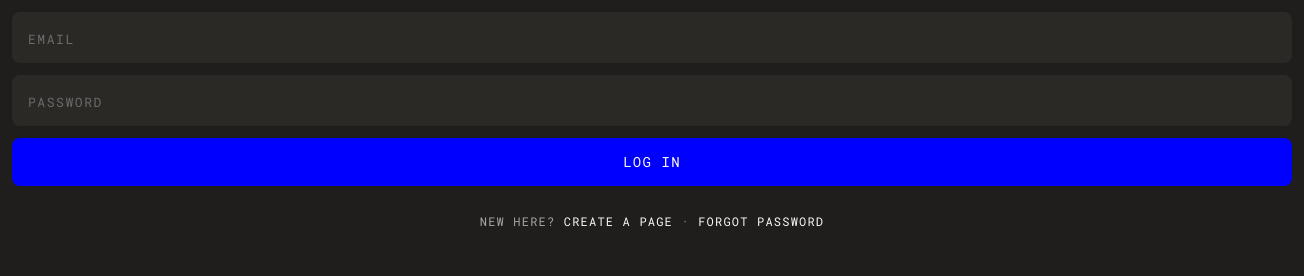
Test: AuthForm › explains unconfirmed-email login failures
This screenshot has width=1304, height=276.
Step 1. Type "a@b.com" into the field with placeholder "Email" → (652, 38), box [12, 12, 1292, 63]
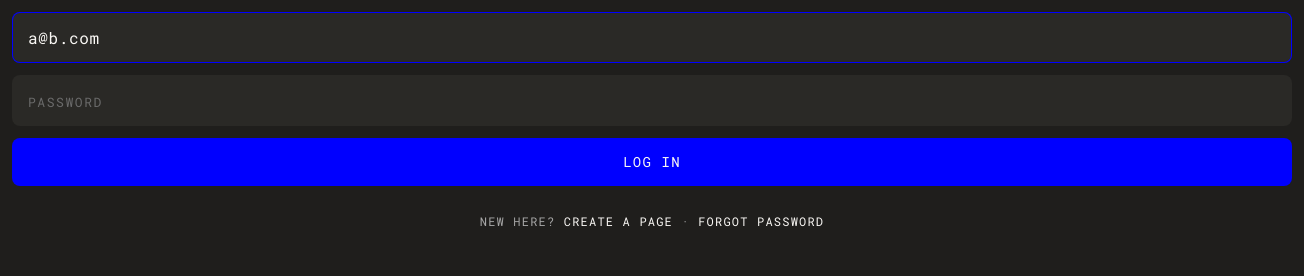
Step 2. Type "secret123" into the password field with placeholder "Password" → (652, 101), box [12, 75, 1292, 126]
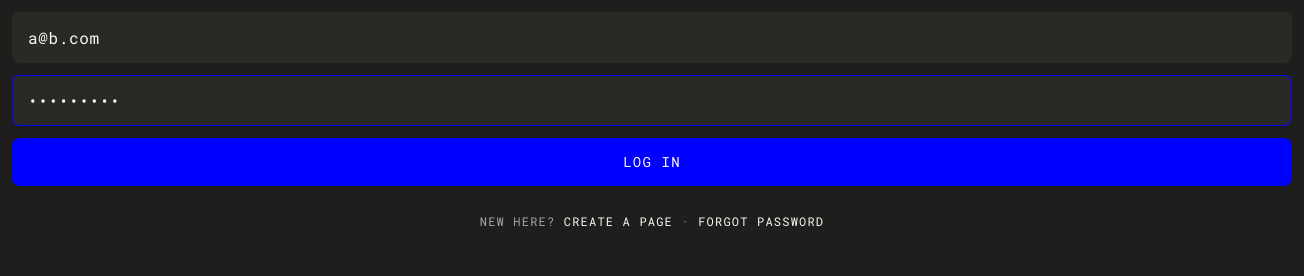
Step 3. Click the button "Log in" → click(652, 162), box [12, 138, 1292, 186]
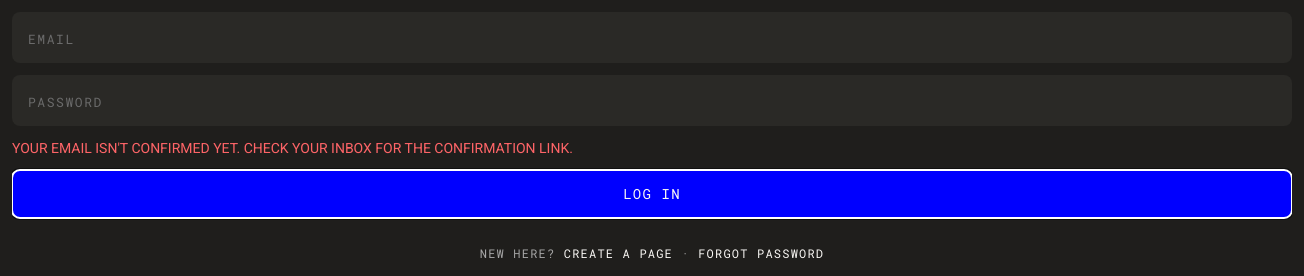
Check: the text "isn't confirmed yet" is shown, box [12, 140, 573, 156]
